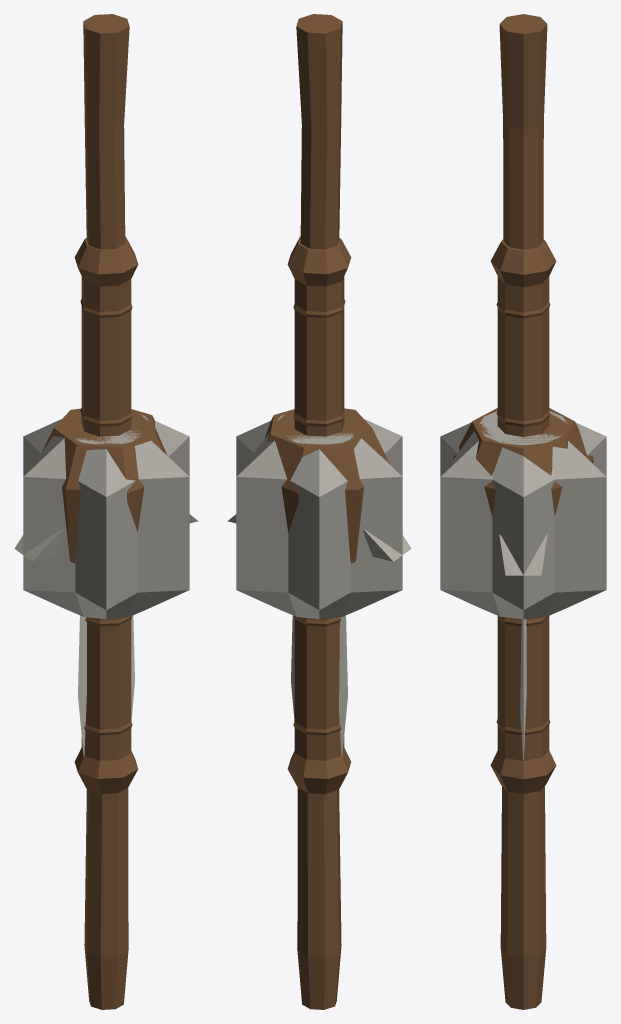
File: weapons.glb
3 renders of one model, left to right at view 1: azimuth 30°, elevation 25°; view 2: azimuth 150°, elevation 25°; view 3: azimuth 270°, elevation 25°, orthographic.
Parts seen in each view (by area): view 1: mace_head, staff_handle, club_handle, club_head, sword_blade, sword_guard, mace_handle, sword_handle; view 2: mace_head, staff_handle, club_handle, club_head, sword_blade, sword_guard, mace_handle, sword_handle; view 3: mace_head, staff_handle, club_handle, club_head, sword_guard, sword_blade, mace_handle, sword_handle.
Part boxes in pixels (x1,y1,x2,y2): mace_head: (23,414,189,619); staff_handle: (83,14,129,1009); club_handle: (74,236,138,794); club_head: (42,408,166,563); sword_blade: (78,615,134,756); sword_guard: (14,514,198,561); mace_handle: (80,299,132,735); sword_handle: (80,408,132,626); mace_head: (236,414,402,619); staff_handle: (296,14,342,1009); club_handle: (287,236,351,794); club_head: (264,408,389,563); sword_blade: (291,615,347,756); sword_guard: (227,514,411,561); mace_handle: (293,299,345,735); sword_handle: (293,408,345,626); mace_head: (440,411,606,619); staff_handle: (499,14,547,1009); club_handle: (490,239,556,793); club_head: (453,408,593,516); sword_guard: (499,534,547,575); sword_blade: (520,619,526,762); mace_handle: (496,302,550,735); sword_handle: (496,410,550,626).
Size of the model in its own units: 0.16 by 0.9 by 0.1386.
